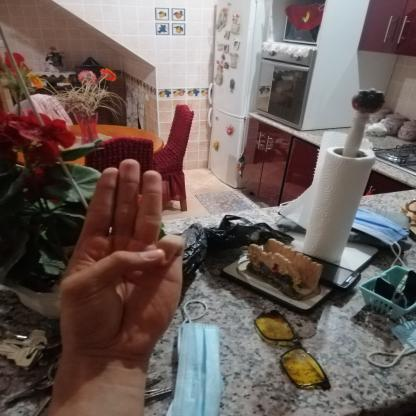THA: (38, 147, 201, 372)
